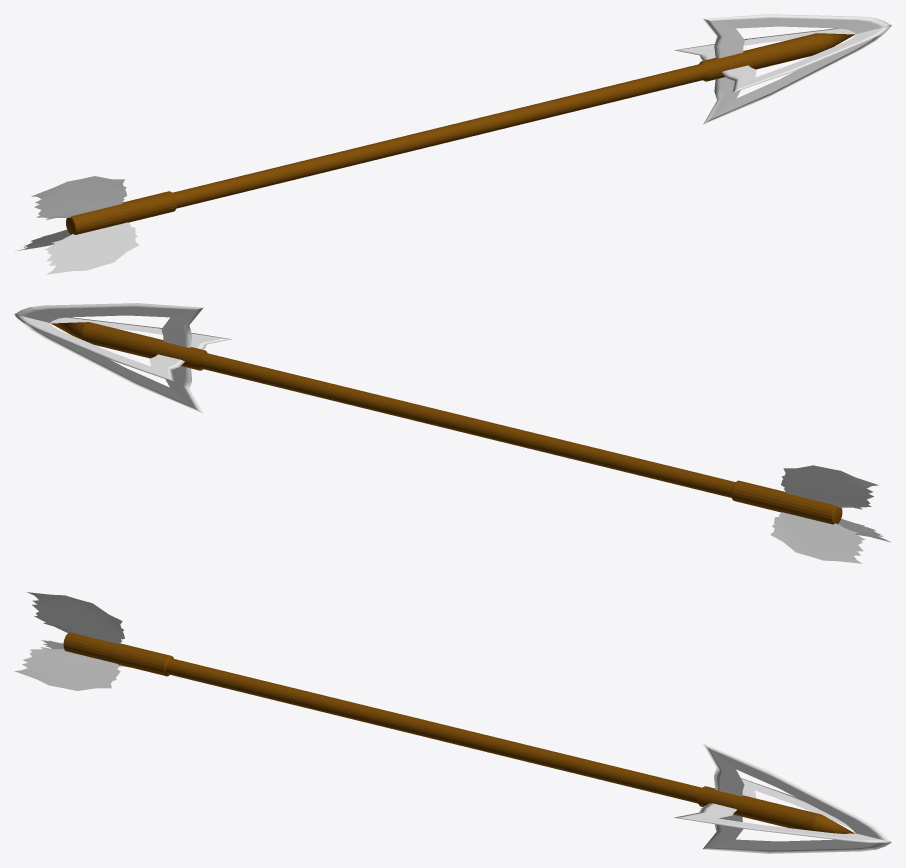
File: SM_Arrow.fbx
The picture shows the model from 3 angles, top to bottom: view 1: azimuth 30°, elevation 25°; view 2: azimuth 150°, elevation 25°; view 3: azimuth 330°, elevation 25°; orthographic projection.
Visible parts, largest first — view 1: Body, Edge, Fabric; view 2: Body, Edge, Fabric; view 3: Body, Edge, Fabric.
Boxes of the visible parts, x1,y1,x2,y2 form: Body: (66,33,854,234); Edge: (674,14,891,124); Fabric: (15,176,139,274); Body: (51,322,842,524); Edge: (14,303,231,413); Fabric: (770,465,890,563); Body: (63,632,854,833); Edge: (674,743,891,853); Fabric: (14,592,128,690).
Size of the model in its own units: 471 by 55.24 by 55.24.
